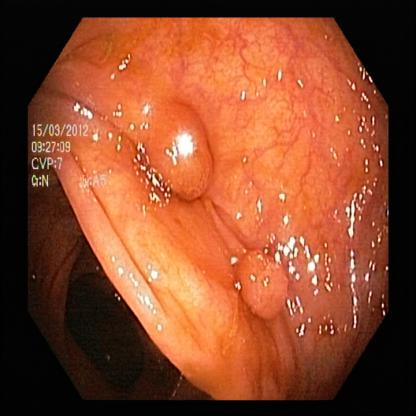Labels: (32, 110, 115, 194)
Polyps: (134, 98, 220, 201), (239, 242, 293, 332)
